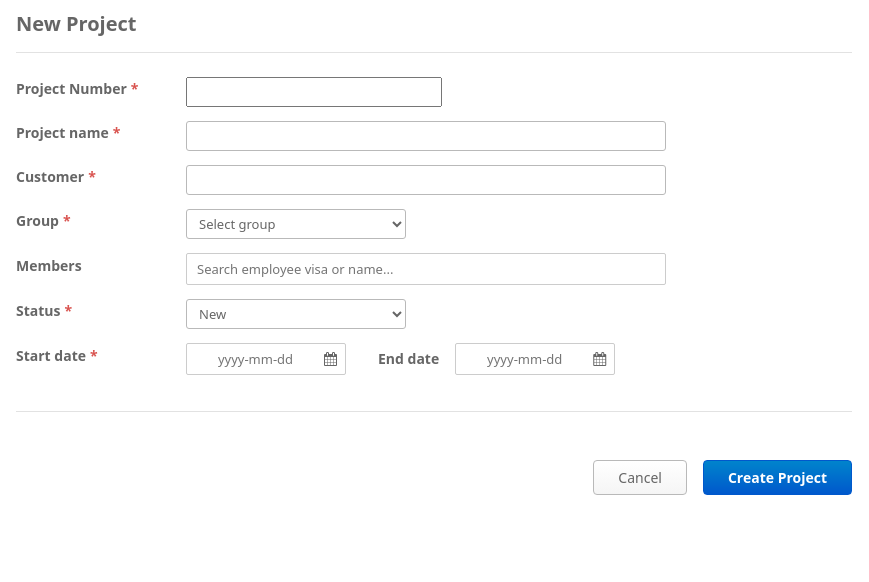
Test: ProjectForm Component Tests › displays mandatory validation notice when submitting empty form
Click the button "Create Project": x=777, y=478 [703,460,852,495]
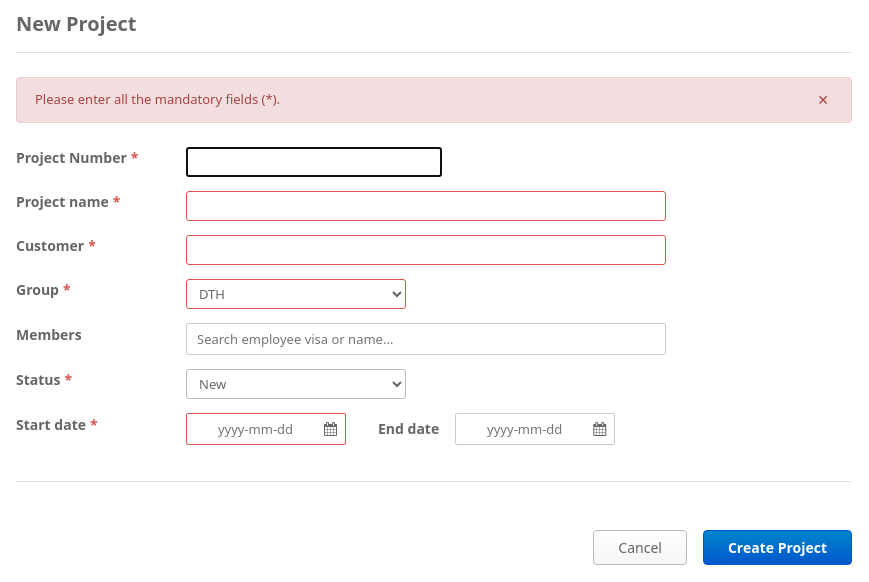
Result: the text "Please enter all the mandatory fields (*)." is shown at [35,90,280,110]
